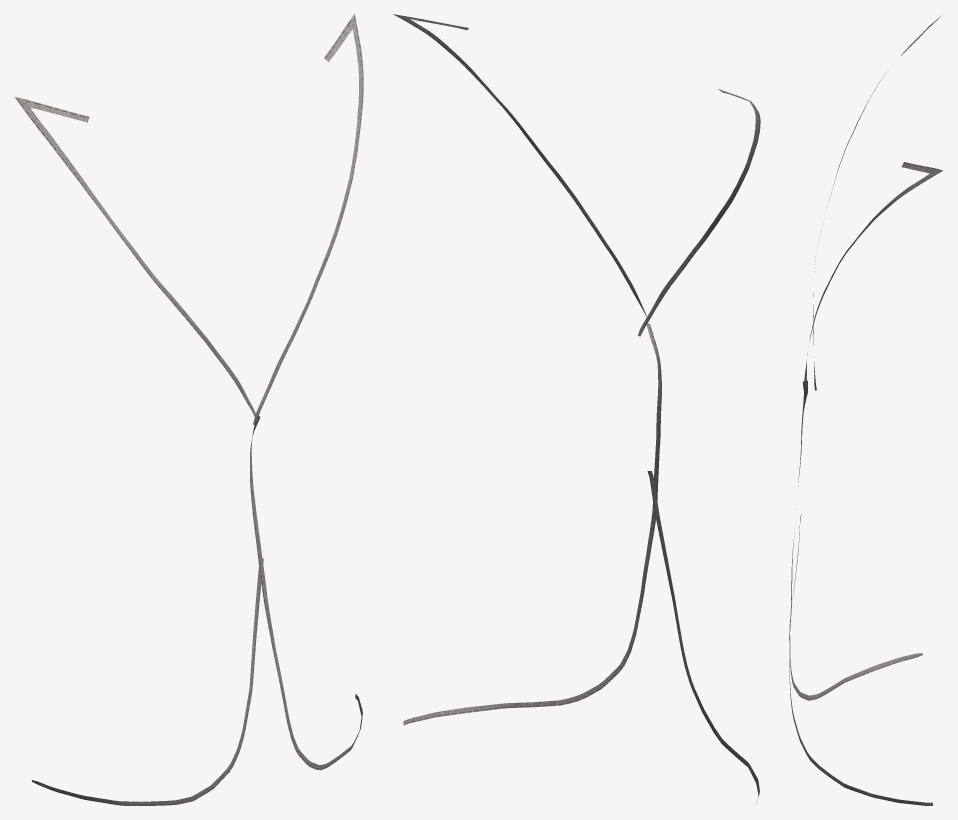
File: peak_single_button_wide_AMF 2mm.glb
The picture shows the model from 3 angles, left to right: view 1: azimuth 30°, elevation 25°; view 2: azimuth 150°, elevation 25°; view 3: azimuth 270°, elevation 25°; orthographic projection. The views are drawn at different scales.
Visible parts, largest first — view 1: peak_single_button_wide_AMF2; view 2: peak_single_button_wide_AMF2; view 3: peak_single_button_wide_AMF2.
Part boxes in pixels (x1,y1,x2,y2): peak_single_button_wide_AMF2: [14, 14, 363, 805]; peak_single_button_wide_AMF2: [393, 14, 760, 803]; peak_single_button_wide_AMF2: [789, 16, 942, 805].
Bounding box in the file's own units: 0.0489 × 0.094 × 0.0204.
1 material, 1 textured.
